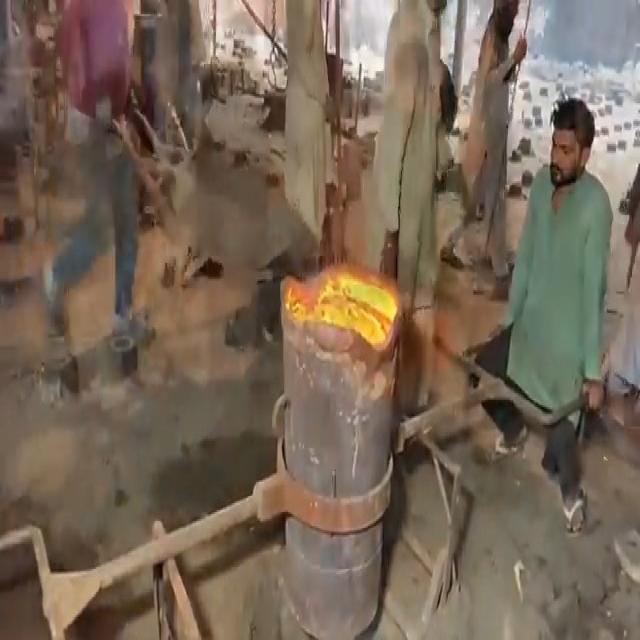dress: (511, 164, 613, 416), (380, 3, 439, 294), (284, 0, 330, 220)
